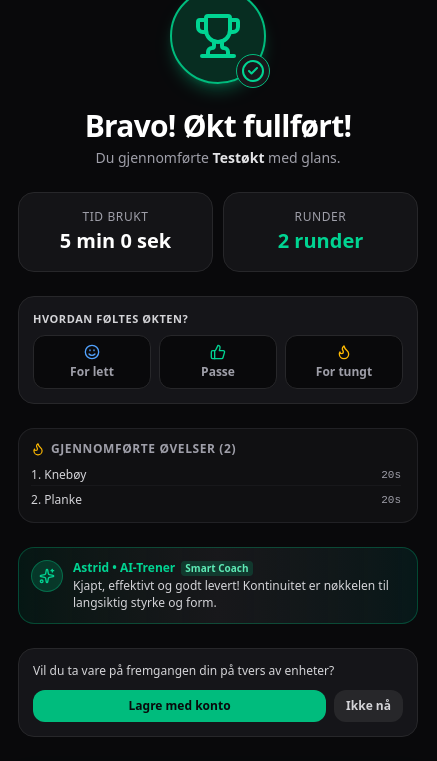
WorkoutSummary — milepælsfeiring og konto-prompt (C1/C2 Task 9) › konto-prompt › «Ikke nå» skjuler prompten, persisterer avvisning og teller dismissed-telemetri — prompten kommer ikke tilbake
Click the button "Ikke nå": (369, 706) [334,690,403,722]
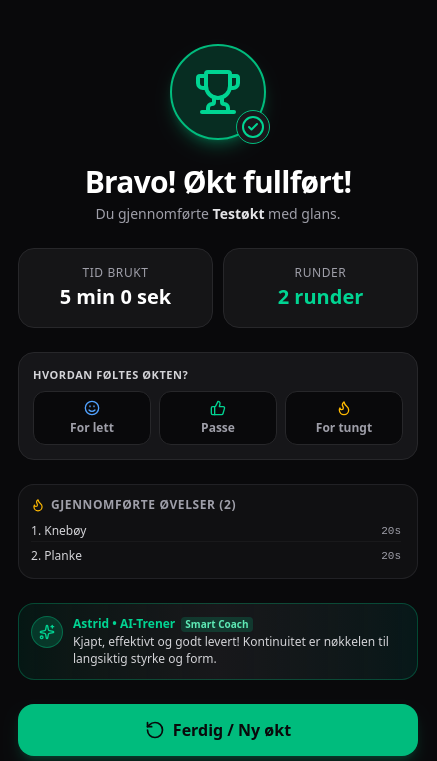
Check: the text "Vil du ta vare på fremgangen din på tvers av enheter?" is gone
